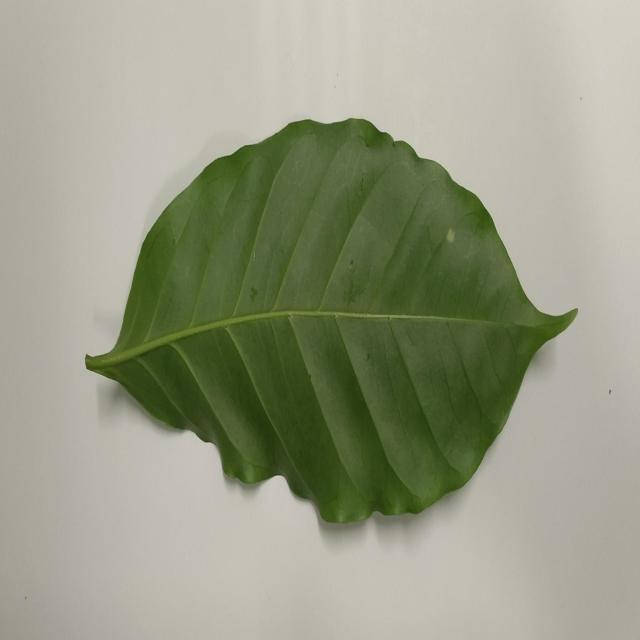Sanas: (83, 118, 579, 529)
